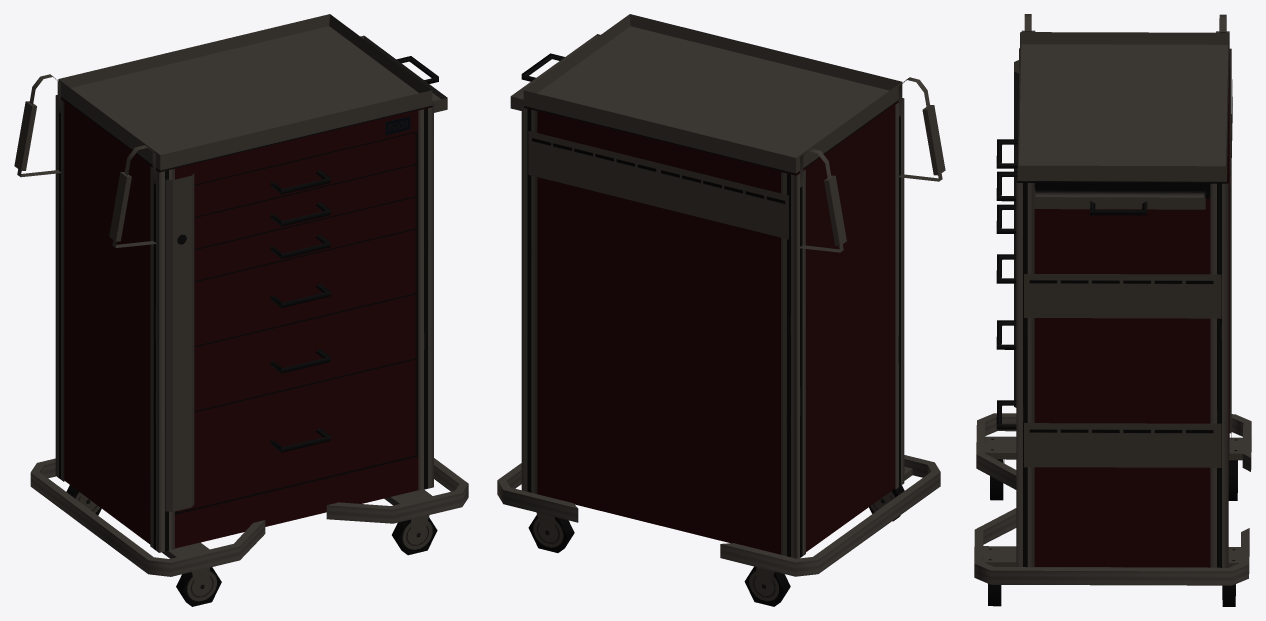
Rendered from ResuscitationCart.fbx.
3 views of the same model, side by side, from view 1: azimuth 30°, elevation 25°; view 2: azimuth 150°, elevation 25°; view 3: azimuth 270°, elevation 25° (orthographic).
Parts seen in each view (by area): view 1: Resuscitation_Cart; view 2: Resuscitation_Cart; view 3: Resuscitation_Cart.
Boxes of the visible parts, box(x1,y1,x2,y2) form: Resuscitation_Cart: box(14, 14, 468, 606); Resuscitation_Cart: box(497, 14, 945, 606); Resuscitation_Cart: box(974, 14, 1251, 606).
Bounding box in the file's own units: 103 × 124 × 68.26.
1 material, 1 textured.
